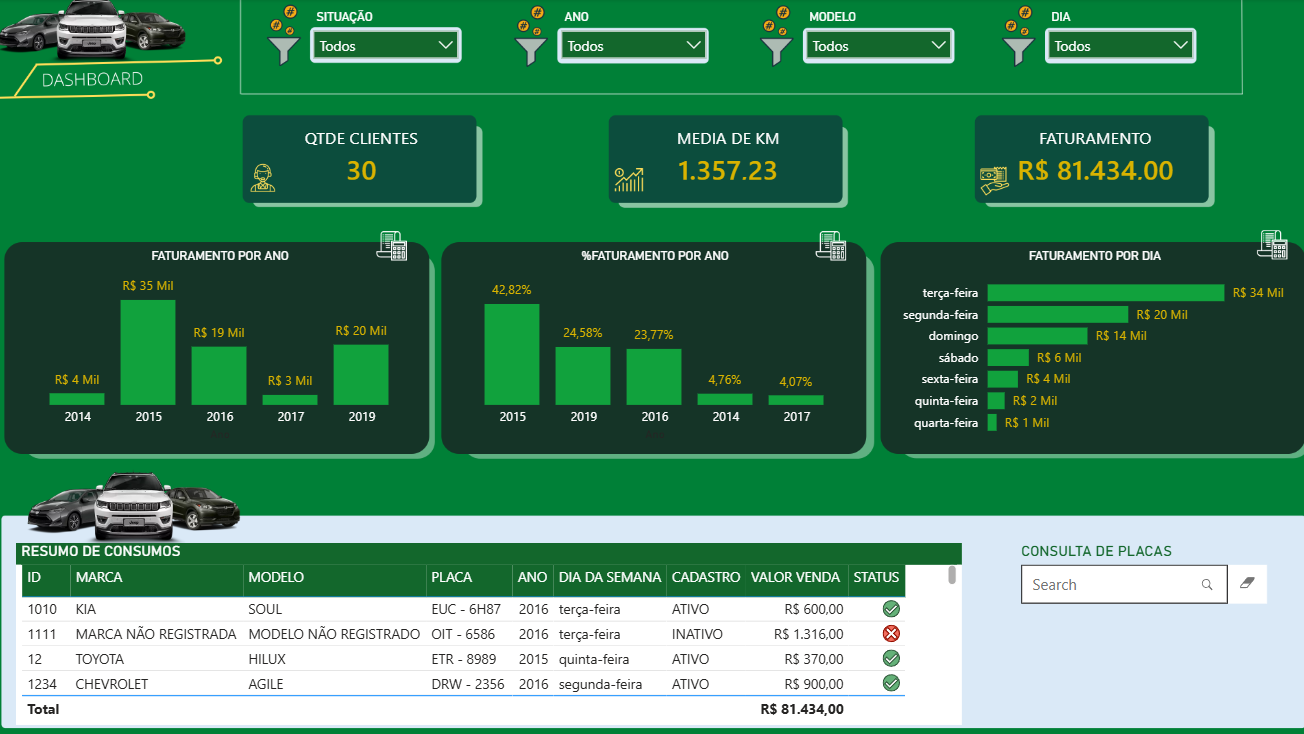

The dashboard page shown, as its layout file describes it:
{"tool":"powerbi","page":{"name":"LOCAÇÃO DE VEÍCULO","canvas":[1280,720],"ordinal":1},"visuals":[{"type":"columnChart","title":"FATURAMENTO POR ANO","fields":{"Y":["tb_km.Fat Medida"],"Category":["tb_km.ANO.Variation.Hierarquia de datas.Ano","tb_km.ANO.Variation.Hierarquia de datas.Trimestre","tb_km.ANO.Variation.Hierarquia de datas.Mês","tb_km.ANO.Variation.Hierarquia de datas.Dia"]},"box":[18.5,243.2,396.8,190.6],"z":0},{"type":"columnChart","title":"%FATURAMENTO POR ANO","fields":{"Y":["tb_km.Fat Medida"],"Category":["tb_km.ANO.Variation.Hierarquia de datas.Ano","tb_km.ANO.Variation.Hierarquia de datas.Mês"]},"box":[441.6,243.2,396.8,190.6],"z":1000},{"type":"barChart","title":"FATURAMENTO POR DIA","fields":{"Y":["tb_km.Fat Medida"],"Category":["tb_km.Nome do Dia"]},"box":[869.5,243.2,396.8,190.6],"z":2000},{"type":"slicer","fields":{"Values":["tb_km.SITUAÇÃO CADASTRAL"]},"box":[297.6,5.8,161.5,65.2],"z":3000},{"type":"slicer","fields":{"Values":["tb_km.ANO.Variation.Hierarquia de datas.Ano"]},"box":[538.8,5.8,161.5,65.2],"z":4000},{"type":"slicer","fields":{"Values":["tb_km.MODELO"]},"box":[777.1,5.8,161.5,65.2],"z":5000},{"type":"slicer","fields":{"Values":["tb_km.Nome do Dia"]},"box":[1012.5,5.8,161.5,65.2],"z":6000},{"type":"cardVisual","fields":{"Data":["Count(tb_km.ID_CLIENTE)"]},"box":[250,112.8,209.1,80.7],"z":7000},{"type":"cardVisual","fields":{"Data":["tb_km.Media de KM"]},"box":[606.9,112.8,209.1,80.7],"z":8000},{"type":"cardVisual","fields":{"Data":["Avg(tb_km.Total Venda)"]},"box":[962.9,112.8,211.1,80.7],"z":9000},{"type":"tableEx","title":"RESUMO DE CONSUMOS","fields":{"Values":["tb_km.ID_CLIENTE","tb_km.MARCA","tb_km.MODELO","tb_km.PLACA","tb_km.ANO","tb_km.Nome do Dia","tb_km.SITUAÇÃO CADASTRAL","tb_km.Fat Medida","tb_km.ICONE"]},"box":[18.5,529.1,920.1,177],"z":10000},{"type":"textFilter25A4896A83E0487089E2B90C9AE57C8A","title":"CONSULTA DE PLACAS","fields":{"field":["tb_km.PLACA"]},"box":[991.1,529.1,249,74.9],"z":11000}]}

Visuals, with their boxes in screenshot pixels (x1, y1, x2, y2), scaled from the page's 1280x720 canvas onto the 1304x734 screenshot:
"FATURAMENTO POR ANO" columnChart: detection(19, 248, 423, 442)
"%FATURAMENTO POR ANO" columnChart: detection(450, 248, 854, 442)
"FATURAMENTO POR DIA" barChart: detection(886, 248, 1290, 442)
slicer - tb_km.SITUAÇÃO CADASTRAL: detection(303, 6, 468, 72)
slicer - tb_km.ANO.Variation.Hierarquia de datas.Ano: detection(549, 6, 713, 72)
slicer - tb_km.MODELO: detection(792, 6, 956, 72)
slicer - tb_km.Nome do Dia: detection(1031, 6, 1196, 72)
cardVisual - Count(tb_km.ID_CLIENTE): detection(255, 115, 468, 197)
cardVisual - tb_km.Media de KM: detection(618, 115, 831, 197)
cardVisual - Avg(tb_km.Total Venda): detection(981, 115, 1196, 197)
"RESUMO DE CONSUMOS" tableEx: detection(19, 539, 956, 720)
"CONSULTA DE PLACAS" textFilter25A4896A83E0487089E2B90C9AE57C8A: detection(1010, 539, 1263, 616)
